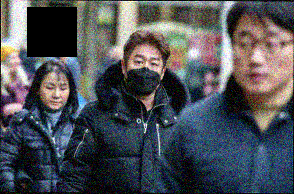with_mask: (125, 51, 166, 96)
without_mask: (231, 26, 294, 97), (39, 79, 71, 110)
